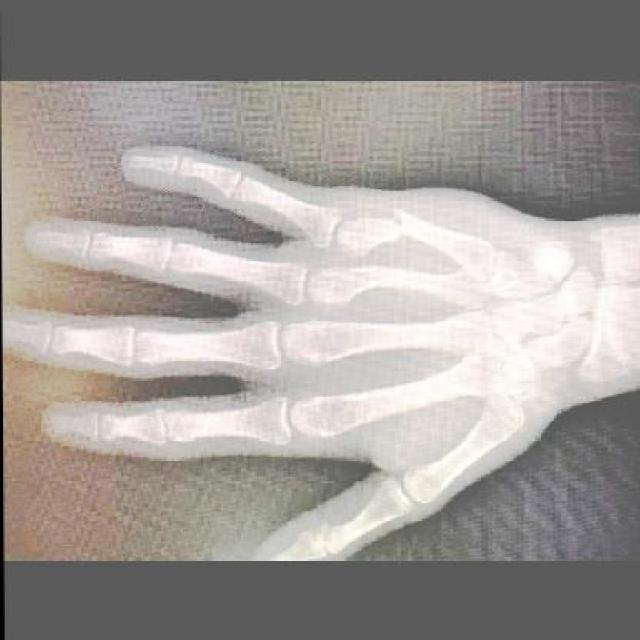Fracture: (382, 206, 415, 240)
